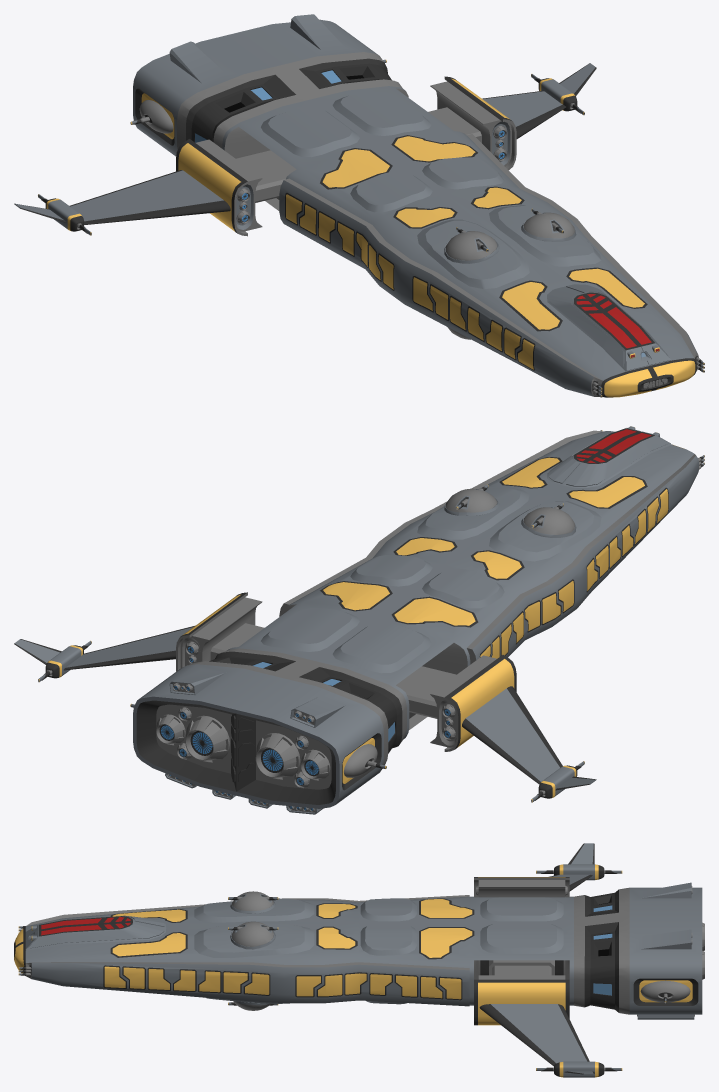
File: Fighter2.fbx
The picture shows the model from 3 angles, top to bottom: view 1: azimuth 30°, elevation 25°; view 2: azimuth 150°, elevation 25°; view 3: azimuth 270°, elevation 25°; orthographic projection. The views are drawn at different scales.
Parts seen in each view (by area): view 1: Group#1_003, Group#1_001, Group#2_002, Group#2_001, SimpleDome02_003, SimpleDome02_001, Group#6_002, Group#6_001; view 2: Group#1_003, Group#1_001, Group#2_002, Group#2_001, Group#30_067, Group#30_013, SimpleDome02_003, SimpleDome02_001, Group#30_015, Group#30_069, Group#6_002, Group#6_001; view 3: Group#1_001, Group#1_003, Group#2_001, Group#2_002, SimpleDome02_001, Group#6_001, SimpleDome02_003, Group#6_002.
Part boxes in pixels (x1,y1,x2,y2): Group#1_003: (133,33,655,397); Group#1_001: (237,14,698,390); Group#2_002: (14,139,296,236); Group#2_001: (428,63,596,170); SimpleDome02_003: (444,231,499,263); SimpleDome02_001: (521,212,576,241); Group#6_002: (45,198,83,231); Group#6_001: (538,78,577,111); Group#1_003: (236,431,698,814); Group#1_001: (133,428,640,799); Group#2_002: (396,655,596,790); Group#2_001: (14,592,264,671); Group#30_067: (255,733,300,779); Group#30_013: (185,715,229,762); SimpleDome02_003: (521,507,576,537); SimpleDome02_001: (444,488,499,515); Group#30_015: (156,714,185,745); Group#30_069: (301,749,330,780); Group#6_002: (538,765,577,798); Group#6_001: (45,645,83,678); Group#1_001: (14,916,702,1019); Group#1_003: (14,882,702,948); Group#2_001: (474,960,594,1074); Group#2_002: (474,843,594,897); SimpleDome02_001: (230,921,275,949); Group#6_001: (554,1061,604,1077); SimpleDome02_003: (230,891,275,913); Group#6_002: (554,864,604,880).
Bounding box in the file's own units: 14335 × 2492 × 18165.
